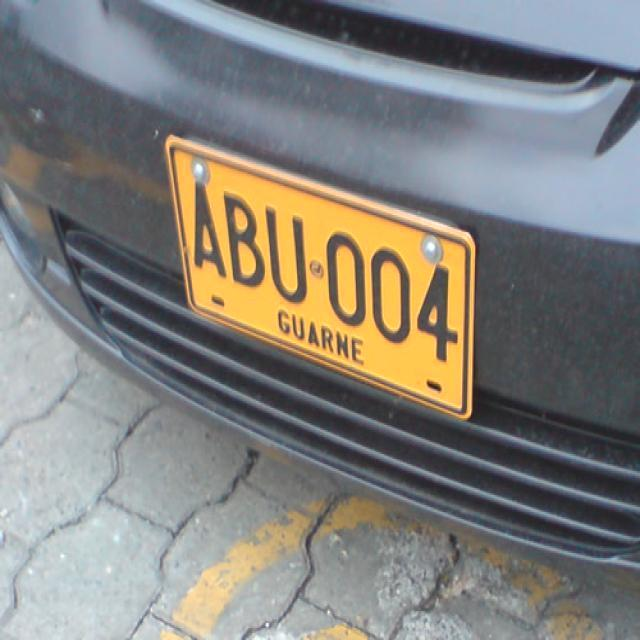placa: (164, 133, 476, 425)
